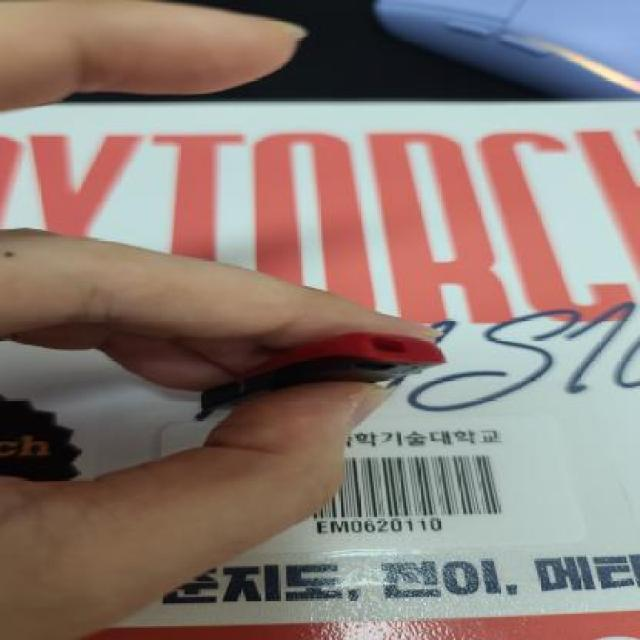Flashdisk: (198, 330, 447, 412)
